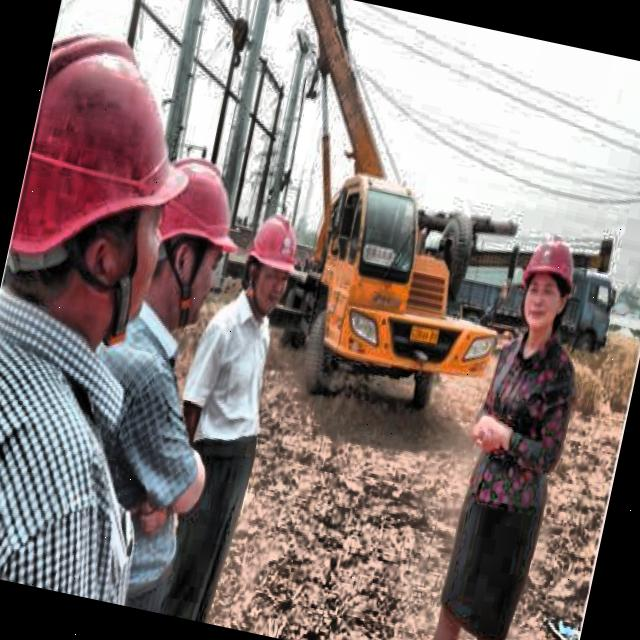helmet: (0, 0, 224, 349), (124, 136, 248, 332), (232, 200, 308, 326), (507, 226, 588, 344)
